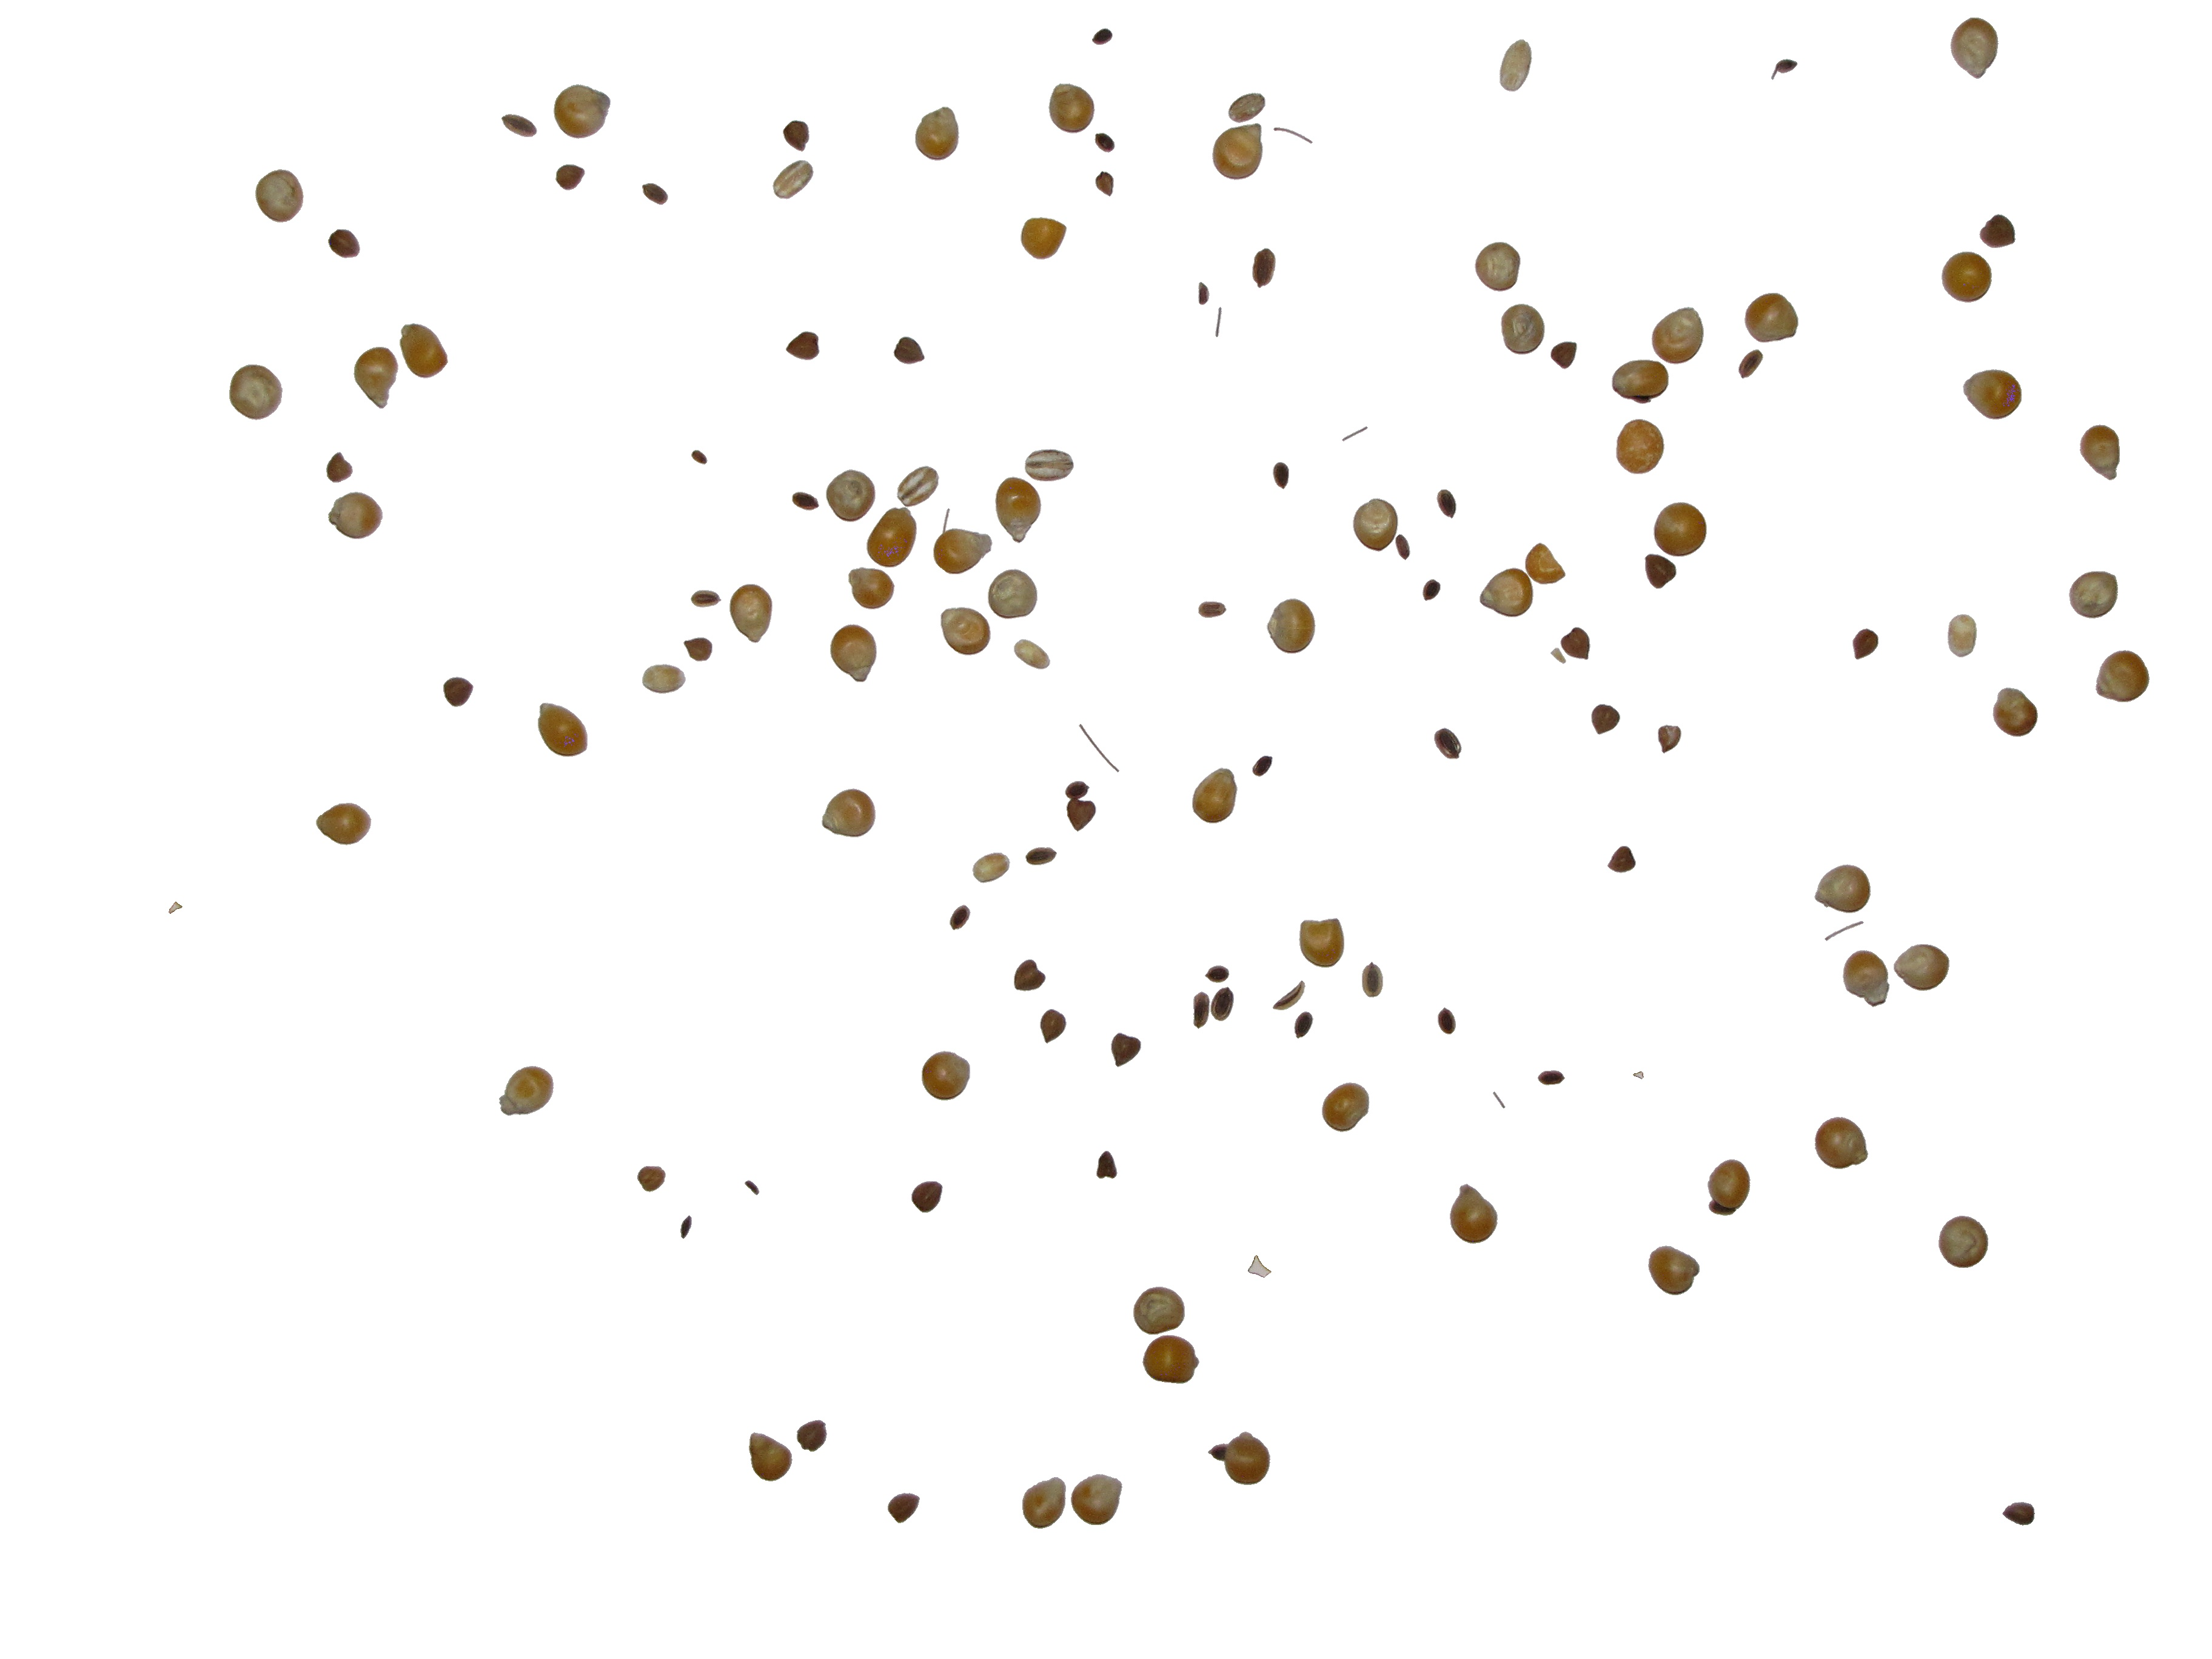buckwheat: (1980, 214, 2015, 247), (1644, 554, 1676, 589), (1014, 960, 1045, 992), (1113, 1033, 1143, 1066), (1066, 798, 1096, 831), (888, 1493, 920, 1523), (1561, 627, 1590, 659), (798, 1420, 827, 1452), (913, 1182, 942, 1213), (1273, 981, 1305, 1009), (894, 336, 925, 364), (787, 331, 819, 359), (1252, 249, 1275, 288), (1040, 1009, 1066, 1042), (1592, 704, 1620, 734), (444, 678, 474, 706), (329, 230, 359, 258), (1211, 986, 1233, 1021), (1435, 728, 1461, 758), (784, 120, 808, 152), (502, 115, 536, 136), (1609, 845, 1637, 871), (637, 1166, 665, 1192), (1362, 962, 1383, 997), (327, 453, 352, 483), (556, 166, 585, 190), (1853, 629, 1878, 659), (2003, 1504, 2034, 1527), (1738, 350, 1763, 378), (1552, 342, 1576, 369), (1193, 992, 1211, 1028), (1658, 725, 1681, 753), (685, 638, 712, 660), (1771, 59, 1797, 80), (1437, 490, 1456, 518), (643, 183, 667, 204), (1294, 1012, 1313, 1039), (1097, 1152, 1116, 1178), (951, 904, 970, 929), (691, 591, 721, 606), (1439, 1007, 1456, 1033), (792, 493, 819, 511), (1198, 601, 1226, 617), (1205, 965, 1230, 983), (1096, 171, 1113, 195), (1273, 462, 1289, 488), (1252, 756, 1271, 775), (1538, 1070, 1564, 1084), (1068, 779, 1089, 796), (1423, 580, 1440, 599), (1096, 134, 1115, 152), (681, 1216, 691, 1239), (1552, 648, 1566, 664), (745, 1180, 759, 1194), (1493, 1093, 1505, 1108), (1634, 1072, 1642, 1079)
dill: (1080, 725, 1118, 772), (1825, 922, 1864, 941), (1273, 127, 1312, 143), (1343, 427, 1367, 441)
mais: (934, 509, 993, 573), (1651, 307, 1703, 364), (996, 477, 1042, 542), (230, 364, 282, 420), (554, 85, 610, 138), (1963, 369, 2022, 418), (867, 507, 916, 566), (1951, 17, 1998, 78), (1655, 502, 1707, 556), (1212, 124, 1263, 179), (1815, 1117, 1867, 1169), (2097, 650, 2149, 702), (1815, 864, 1871, 913), (1143, 1335, 1198, 1384), (1451, 1185, 1498, 1243), (354, 347, 397, 408), (500, 1066, 554, 1115), (1843, 951, 1890, 1007), (831, 624, 876, 681), (1071, 1474, 1122, 1525), (1480, 568, 1533, 617), (538, 704, 587, 756), (1745, 293, 1797, 342), (401, 324, 448, 378), (1268, 599, 1315, 653), (1616, 420, 1663, 474), (730, 584, 772, 643), (1939, 1216, 1987, 1267), (256, 169, 303, 221), (822, 789, 874, 836), (329, 493, 383, 538), (1895, 945, 1949, 990), (1649, 1246, 1698, 1295), (988, 570, 1036, 619), (1942, 253, 1991, 301), (941, 608, 991, 655), (827, 471, 874, 521), (1193, 769, 1237, 823), (1613, 361, 1669, 403), (1322, 1082, 1369, 1131), (2069, 572, 2118, 619), (923, 1051, 970, 1100), (1134, 1288, 1184, 1333), (1353, 498, 1397, 551), (317, 803, 371, 845), (1709, 1161, 1750, 1215), (1475, 242, 1521, 291), (1049, 84, 1094, 132), (1022, 1478, 1066, 1528), (916, 108, 958, 160), (2080, 425, 2120, 479), (1993, 688, 2038, 735), (749, 1432, 792, 1481), (1501, 305, 1545, 354), (1299, 918, 1343, 967), (1231, 1432, 1270, 1485), (1021, 218, 1066, 260), (848, 568, 895, 608), (1526, 544, 1566, 584), (1500, 40, 1531, 91), (972, 854, 1010, 884), (1026, 847, 1055, 864), (1395, 535, 1409, 559), (169, 903, 181, 913)
other: (897, 467, 939, 507), (773, 160, 813, 199), (1026, 450, 1073, 481), (643, 664, 685, 694), (1951, 615, 1979, 657), (1014, 640, 1050, 669), (1228, 94, 1264, 122), (1249, 1256, 1271, 1277), (1092, 28, 1111, 44), (693, 451, 709, 464), (1216, 307, 1221, 336), (1200, 282, 1209, 298)
